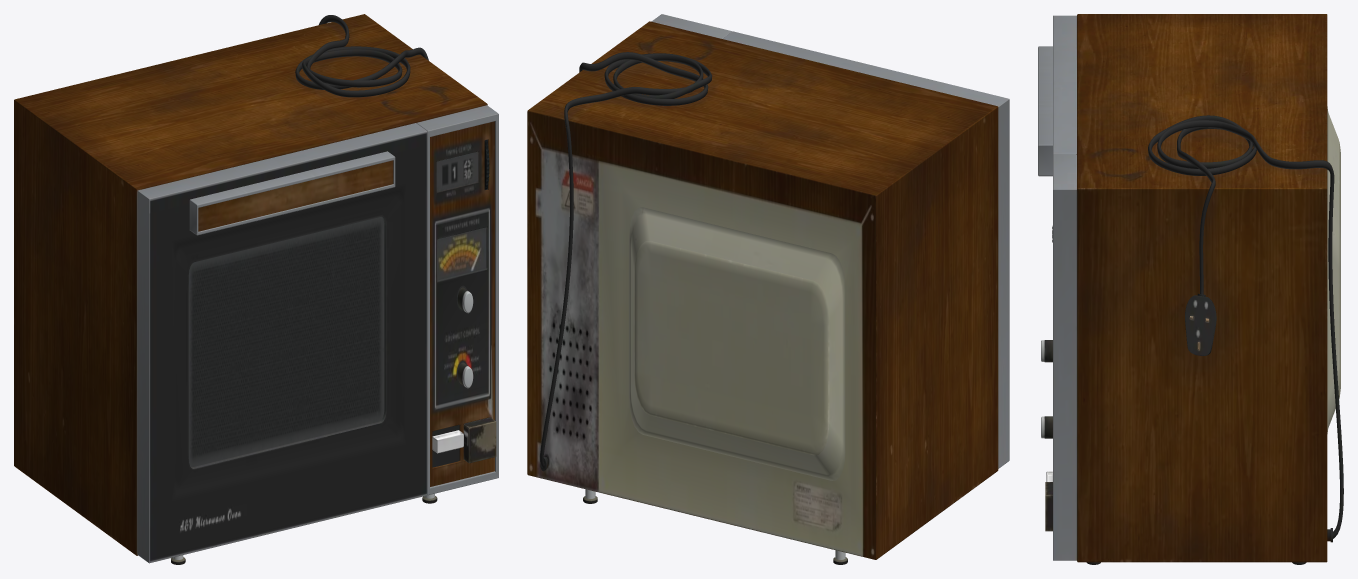
The model's file is microwave.glb.
3 renders of one model, left to right at view 1: azimuth 30°, elevation 25°; view 2: azimuth 150°, elevation 25°; view 3: azimuth 270°, elevation 25°, orthographic. The views are drawn at different scales.
Visible parts, largest first — view 1: vintage_microwave.001; view 2: vintage_microwave.001; view 3: vintage_microwave.001.
Boxes of the visible parts, box(x1,y1,x2,y2) form: vintage_microwave.001: box(14, 14, 498, 564); vintage_microwave.001: box(527, 14, 1009, 564); vintage_microwave.001: box(1038, 14, 1343, 564).
Size of the model in its own units: 13.68 by 14.23 by 9.5.
2 materials, 2 textured.
